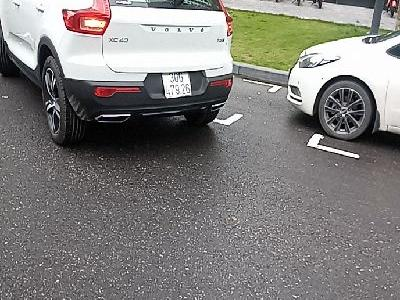car: (162, 72, 195, 99)
